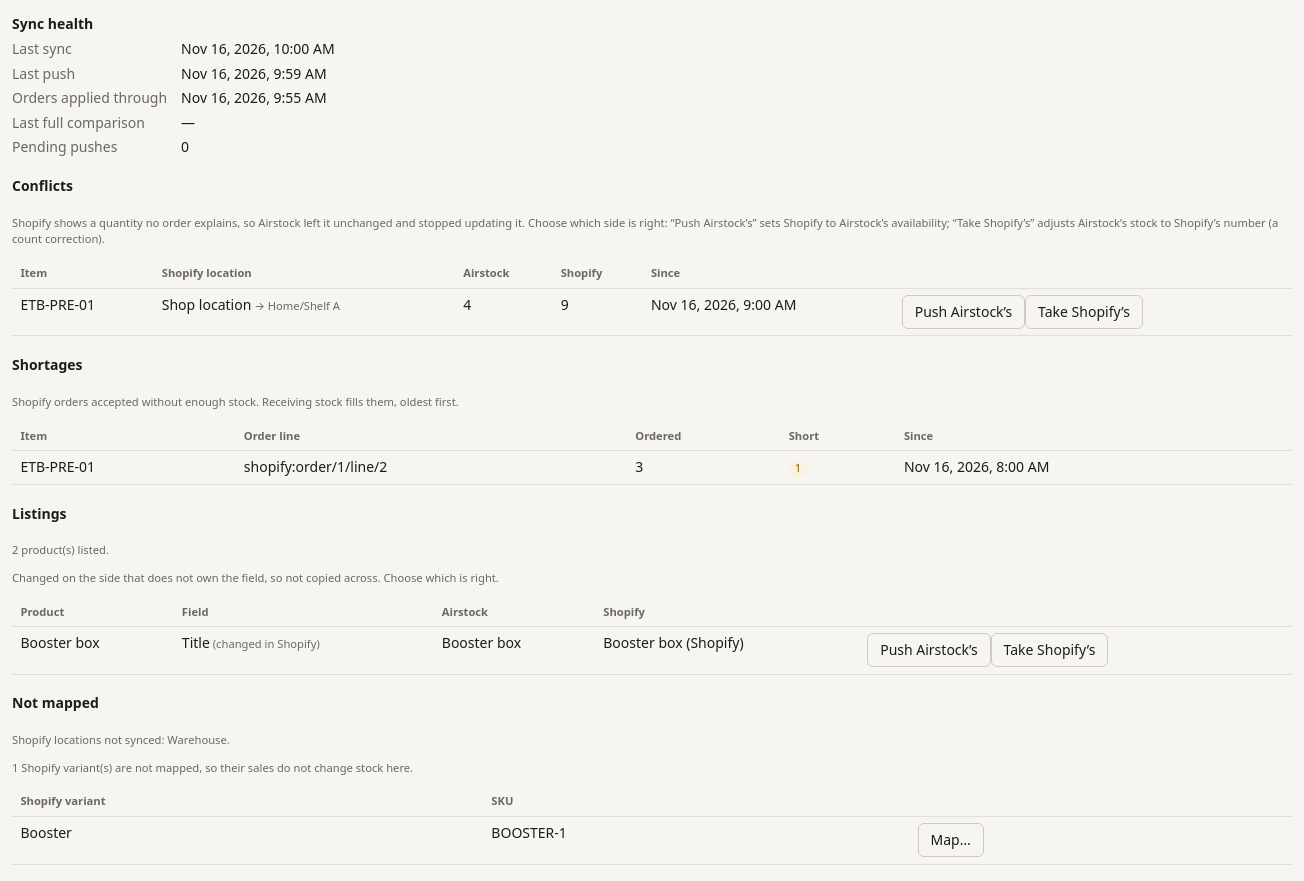
Test: Shopify sync health › lists conflicts, shortages, and unmapped records, and resolves a conflict
Expected: the text "ETB-PRE-01" is shown 2 times, x1=12 y1=288 x2=153 y2=336; x1=12 y1=450 x2=235 y2=484
Expected: the text "shopify:order/1/line/2" is shown, x1=235 y1=450 x2=627 y2=484
Click the button "Push Airstock’s" in the row of "Shop location": click(964, 312) x1=902 y1=295 x2=1025 y2=329
(page scrolled)
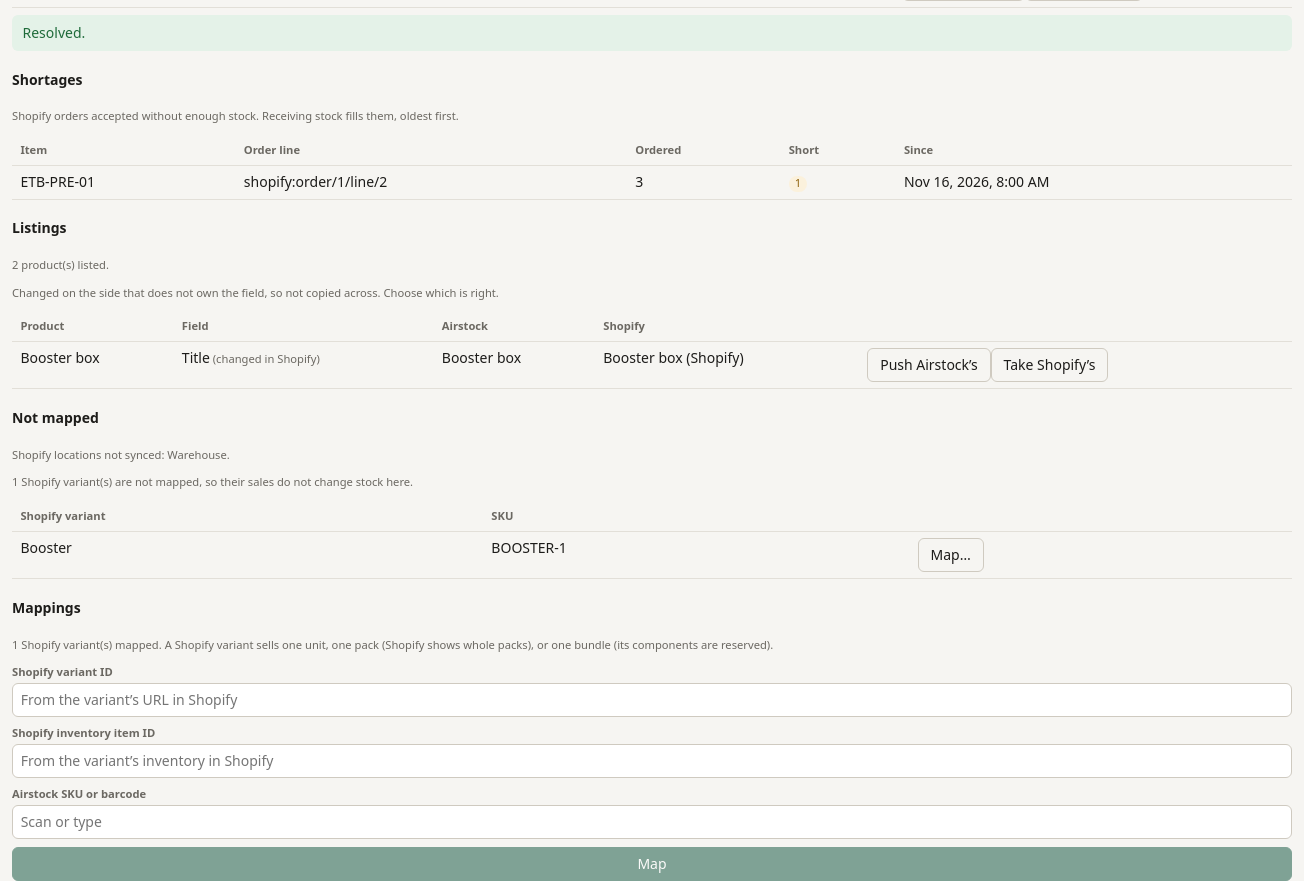
Expected: the text "Resolved." is shown, x1=12 y1=15 x2=1292 y2=51
// "Map…" on an unmapped variant fills the mapping form.
Click the button "Map…": click(951, 555) x1=918 y1=538 x2=984 y2=572
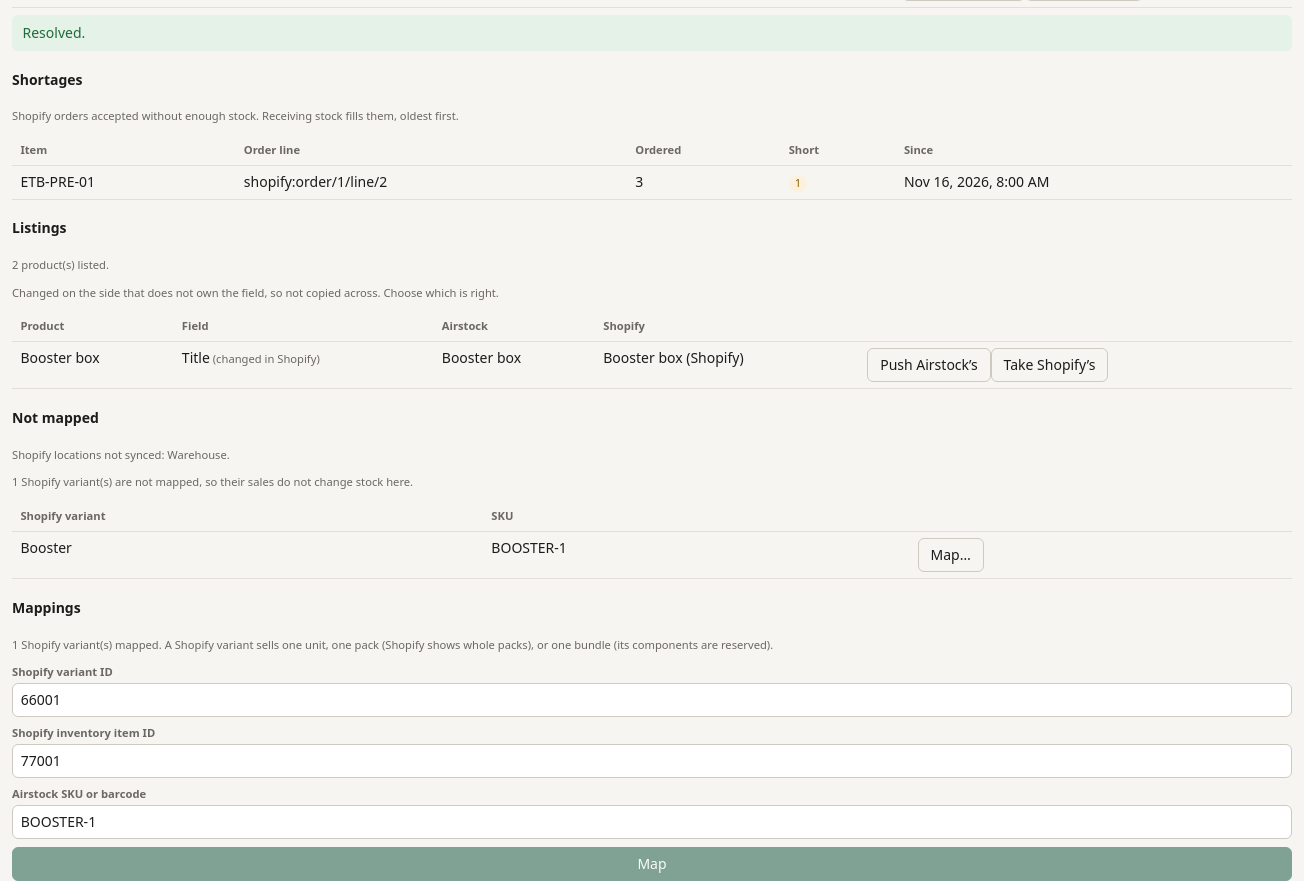
Expected: the field labelled "Shopify variant ID" holds "66001", x1=12 y1=683 x2=1292 y2=717
Expected: the field labelled "Shopify inventory item ID" holds "77001", x1=12 y1=744 x2=1292 y2=778
